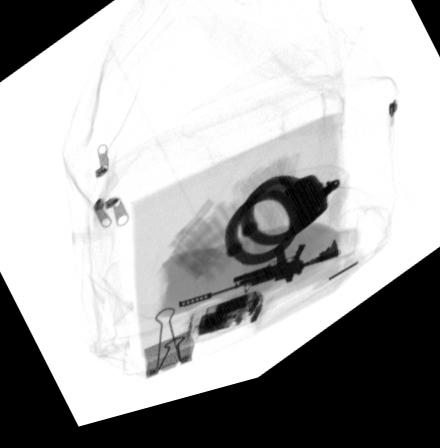Gun: (175, 255, 342, 317)
HandCuffs: (225, 188, 340, 280)
